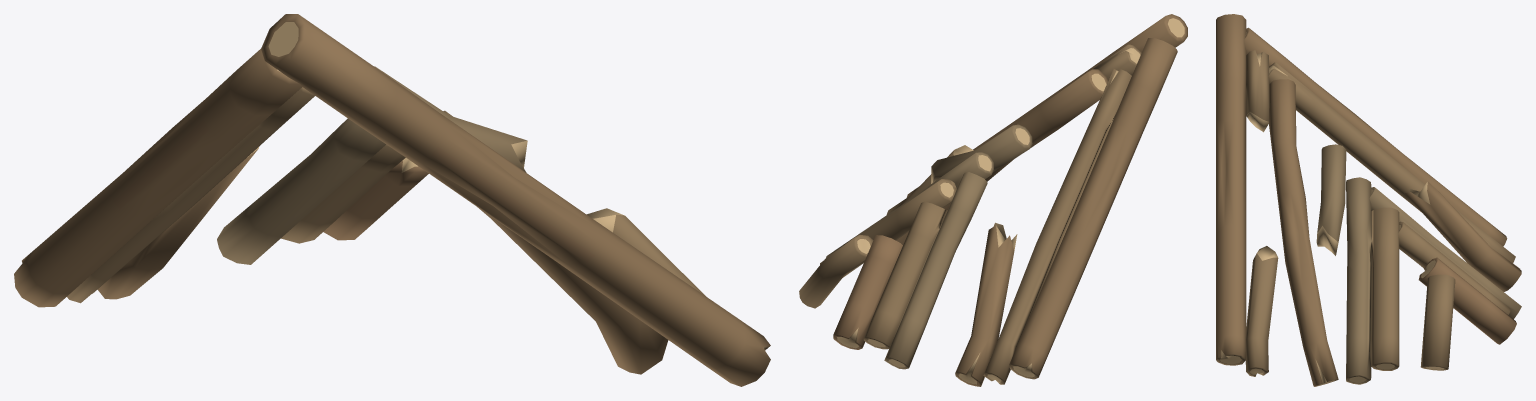
The model's file is rpgpp_av_roof_01_6x3x3_corner_02.gltf.
The picture shows the model from 3 angles, left to right: view 1: azimuth 30°, elevation 25°; view 2: azimuth 150°, elevation 25°; view 3: azimuth 270°, elevation 25°; orthographic projection. The views are drawn at different scales.
Visible parts, largest first — view 1: rpgpp_av_roof_01_6x3x3_corner_02; view 2: rpgpp_av_roof_01_6x3x3_corner_02; view 3: rpgpp_av_roof_01_6x3x3_corner_02.
Boxes of the visible parts, <box> form: rpgpp_av_roof_01_6x3x3_corner_02: <box>14,14,770,386</box>; rpgpp_av_roof_01_6x3x3_corner_02: <box>799,14,1187,386</box>; rpgpp_av_roof_01_6x3x3_corner_02: <box>1216,14,1521,386</box>.
Size of the model in its own units: 0.0437 by 0.0415 by 0.0431.
1 material, 1 textured.
